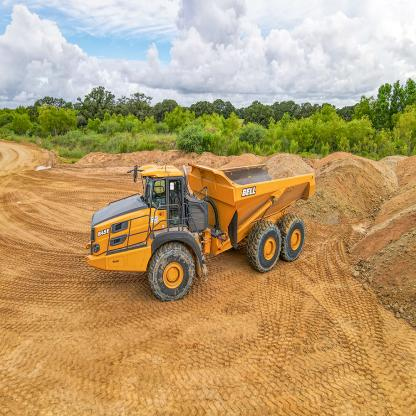dump_truck: (80, 140, 326, 322)
